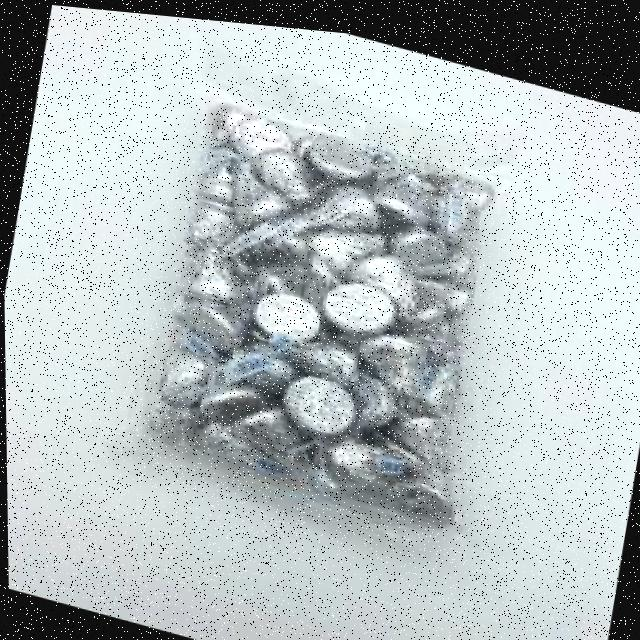kisses: (288, 253, 411, 348), (265, 351, 361, 439), (350, 145, 440, 219), (245, 130, 327, 205)
